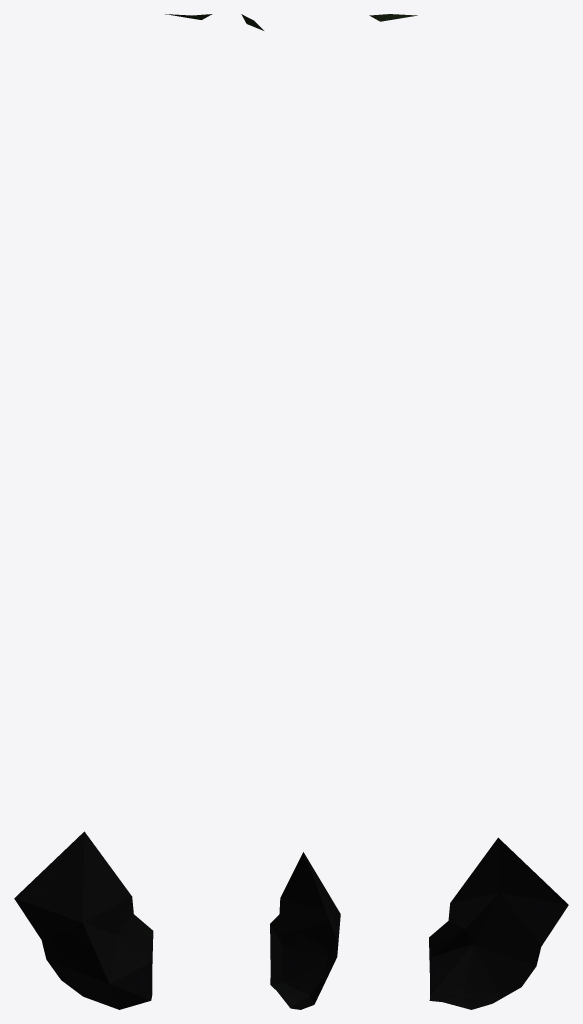
3 renders of one model, left to right at view 1: azimuth 90°, elevation 25°; view 2: azimuth 210°, elevation 25°; view 3: azimuth 270°, elevation 25°, orthographic. The views are drawn at different scales.
Bounding box in the file's own units: 0.0354 × 0.7049 × 0.1283.
Materials: 1 (1 with a texture image).
